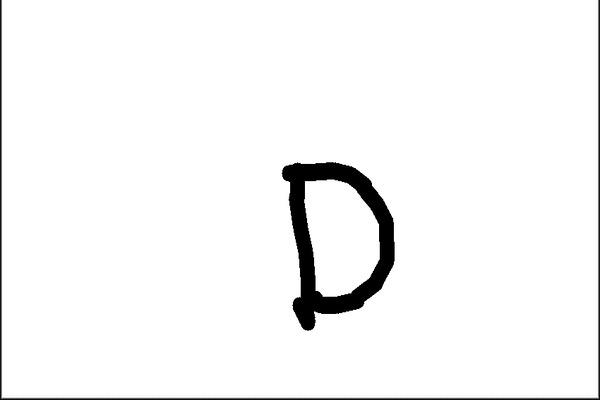D: (278, 158, 405, 337)
